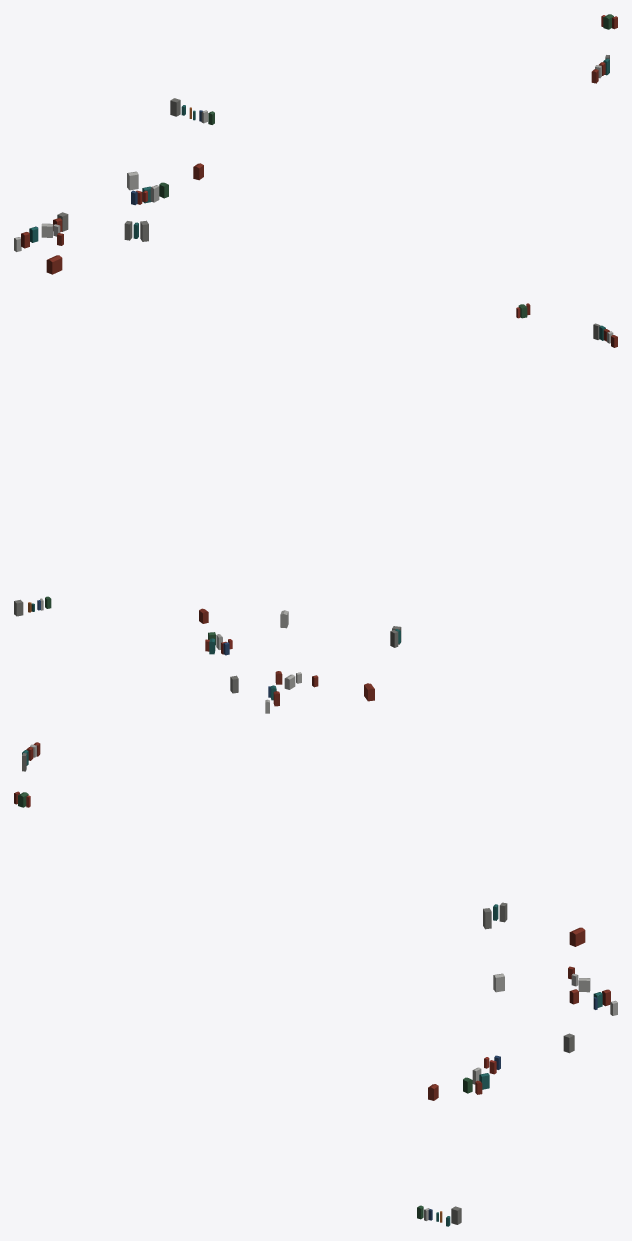
The model's file is near-15-27371-14863.ed35fd40.glb.
3 renders of one model, top to bottom at view 1: azimuth 90°, elevation 25°; view 2: azimuth 150°, elevation 25°; view 3: azimuth 270°, elevation 25°, orthographic. The views are drawn at different scales.
Size of the model in its own units: 762 by 423 by 869.
